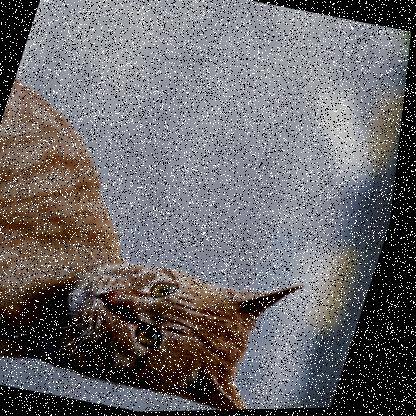cat: (0, 186, 344, 415)
